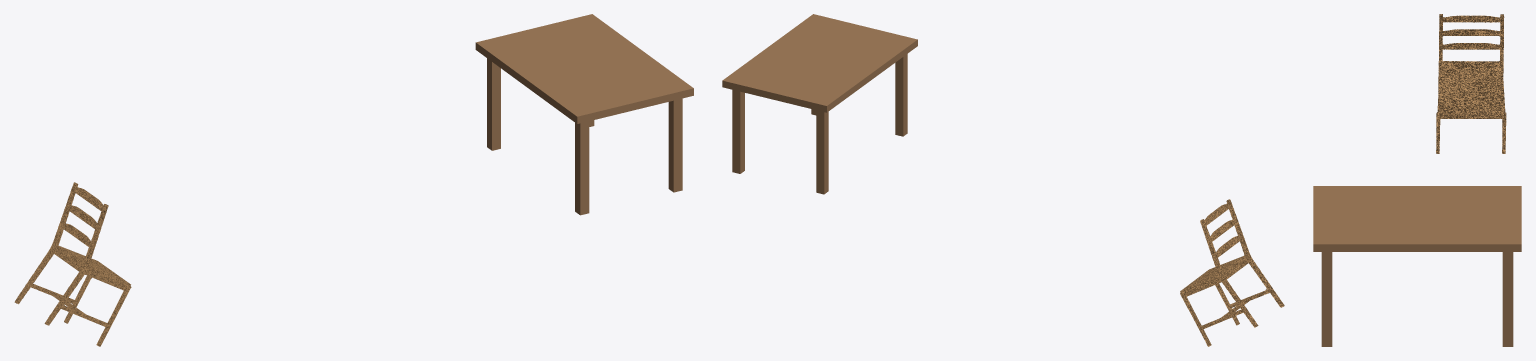
File: g1_10_chair_sit_props.glb
3 renders of one model, left to right at view 1: azimuth 30°, elevation 25°; view 2: azimuth 150°, elevation 25°; view 3: azimuth 270°, elevation 25°, orthographic. The views are drawn at different scales.
Parts seen in each view (by area): view 1: s000, o00, s001, s003, s002; view 2: s000, o00, s002, s004, s001; view 3: s000, o00, s003, s004.
Part boxes in pixels (x1=…): s000: x1=475, y1=14, x2=693, y2=123; o00: x1=14, y1=182, x2=131, y2=346; s001: x1=575, y1=121, x2=589, y2=215; s003: x1=668, y1=98, x2=682, y2=192; s002: x1=487, y1=58, x2=500, y2=150; s000: x1=722, y1=14, x2=917, y2=112; o00: x1=1180, y1=199, x2=1284, y2=346; s002: x1=816, y1=110, x2=828, y2=194; s004: x1=732, y1=90, x2=744, y2=173; s001: x1=895, y1=54, x2=907, y2=136; s000: x1=1313, y1=186, x2=1521, y2=251; o00: x1=1436, y1=14, x2=1506, y2=153; s003: x1=1321, y1=252, x2=1332, y2=346; s004: x1=1502, y1=252, x2=1513, y2=346.
Bounding box in the file's own units: 3.3 × 0.9284 × 0.9887.
